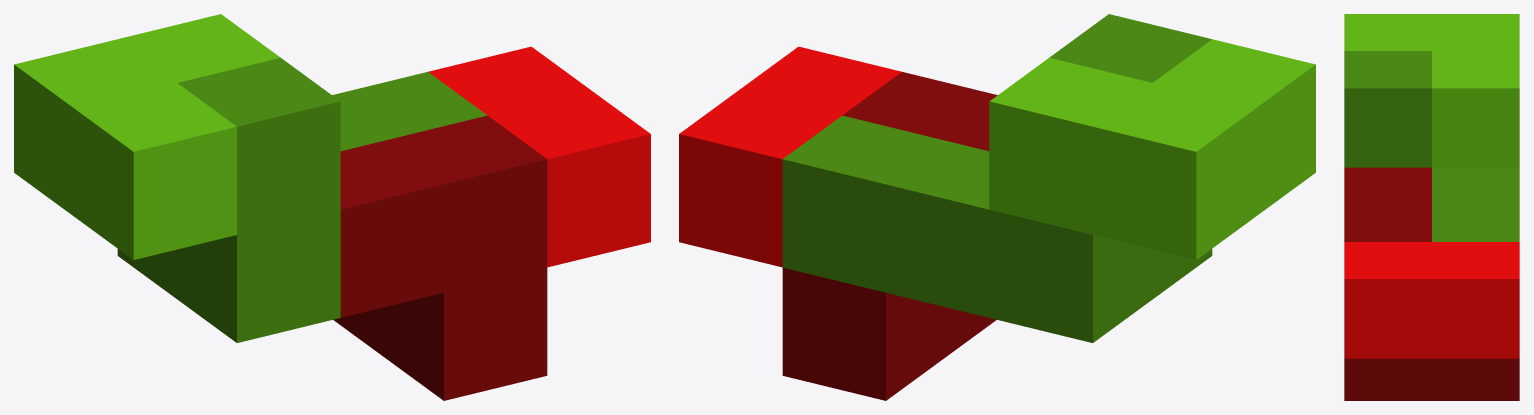
The picture shows the model from 3 angles, left to right: view 1: azimuth 30°, elevation 25°; view 2: azimuth 150°, elevation 25°; view 3: azimuth 270°, elevation 25°; orthographic projection. The views are drawn at different scales.
Parts seen in each view (by area): view 1: mergedBlocks(Clone); view 2: mergedBlocks(Clone); view 3: mergedBlocks(Clone).
Boxes of the visible parts, box(x1,y1,x2,y2) form: mergedBlocks(Clone): box(14, 14, 650, 400); mergedBlocks(Clone): box(679, 14, 1315, 400); mergedBlocks(Clone): box(1344, 14, 1519, 400).
Bounding box in the file's own units: 5 × 3 × 2.
4 materials, 4 textured.
